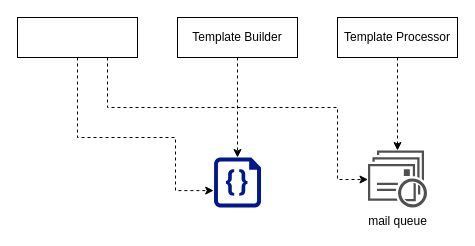
This 475x246 diagram has some shape labels left out. The shapes that lost their labels are listed below. From the top down, each one's centre as x and y in pixels, then its label:
At (77,37): "API Catalog".
At (237,182): "Document Database".
